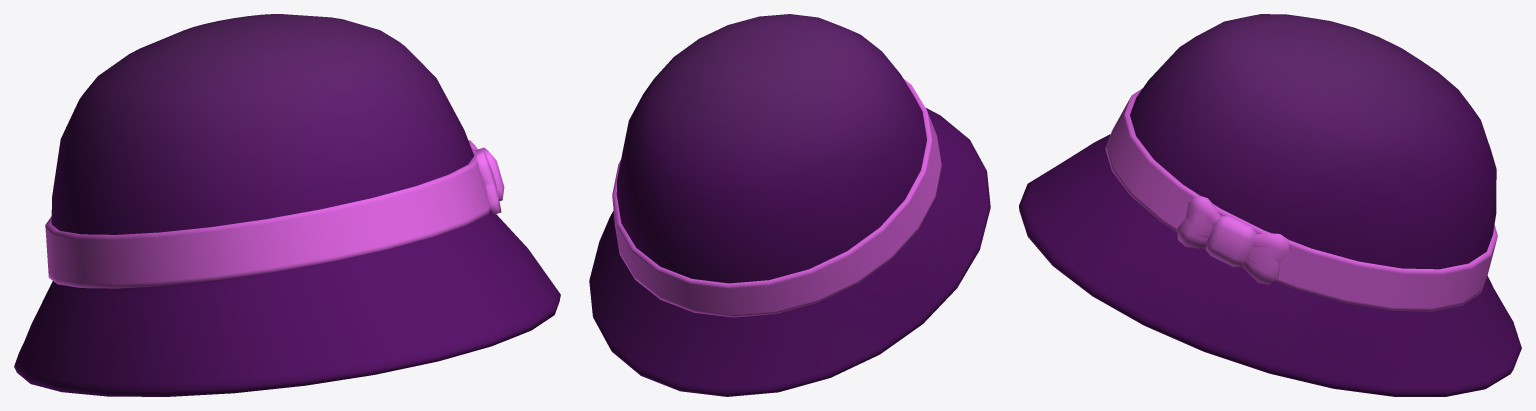
The model's file is ChocheHat.FBX.
3 views of the same model, side by side, from view 1: azimuth 30°, elevation 25°; view 2: azimuth 150°, elevation 25°; view 3: azimuth 270°, elevation 25° (orthographic). The views are drawn at different scales.
Parts seen in each view (by area): view 1: ClocheHat; view 2: ClocheHat; view 3: ClocheHat.
Boxes of the visible parts, left/top/right/bottom form: ClocheHat: left=14, top=14, right=560, bottom=396; ClocheHat: left=589, top=14, right=990, bottom=396; ClocheHat: left=1019, top=14, right=1521, bottom=396.
Size of the model in its own units: 40.07 by 31.98 by 45.87.
Materials: 1 (1 with a texture image).
